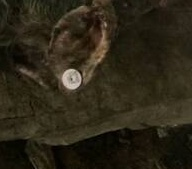text: (55, 59, 97, 96)
